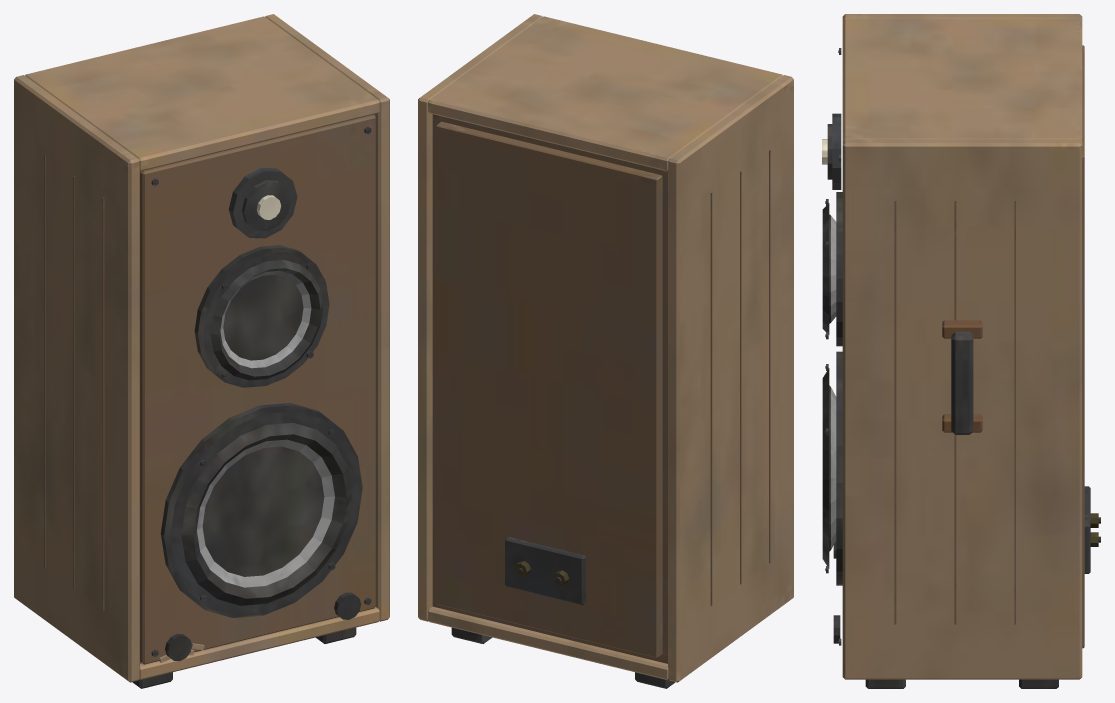
The model's file is Q24_big_speakers_v1.glb.
3 renders of one model, left to right at view 1: azimuth 30°, elevation 25°; view 2: azimuth 150°, elevation 25°; view 3: azimuth 270°, elevation 25°, orthographic. The views are drawn at different scales.
Parts seen in each view (by area): view 1: Rubber isolation foot; view 2: Rubber isolation foot; view 3: Rubber isolation foot.
Boxes of the visible parts, left/top/right/bottom form: Rubber isolation foot: left=14, top=14, right=389, bottom=688; Rubber isolation foot: left=418, top=14, right=793, bottom=688; Rubber isolation foot: left=822, top=14, right=1100, bottom=688.
Bounding box in the file's own units: 0.5597 × 1 × 0.4537.
9 materials, 9 textured.
